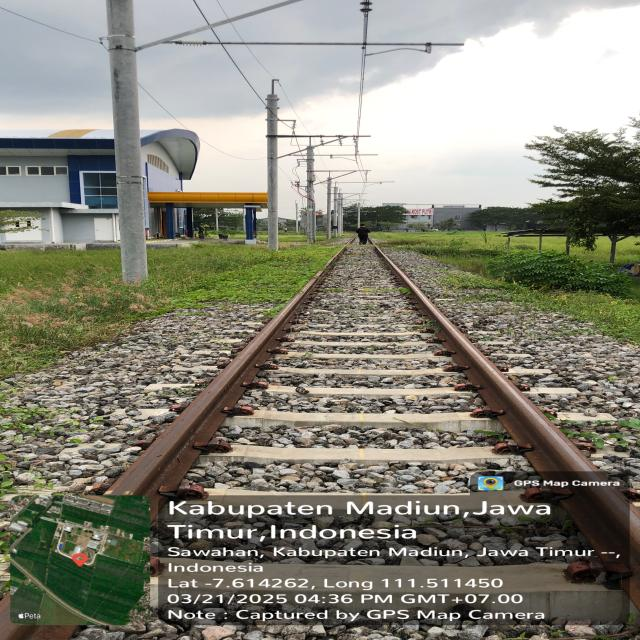rail-detection: (375, 248, 640, 570), (110, 276, 319, 517)
